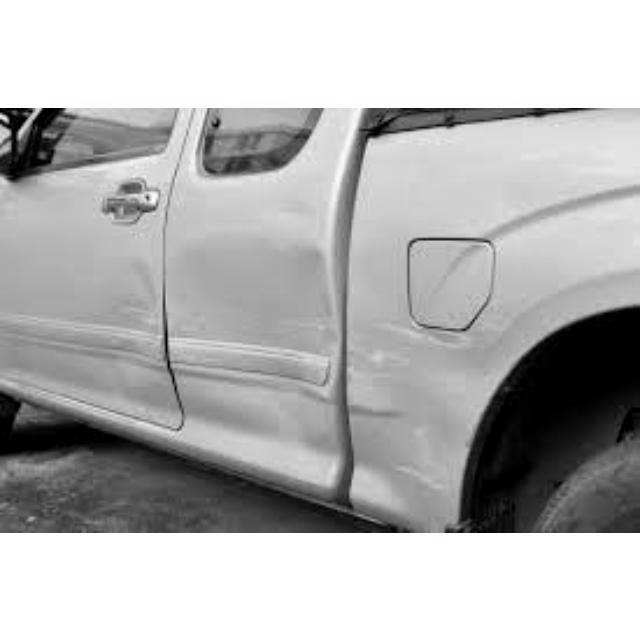doorouter-dent: (173, 159, 340, 428), (1, 163, 168, 425)
quaterpanel-dent: (355, 110, 638, 512)
